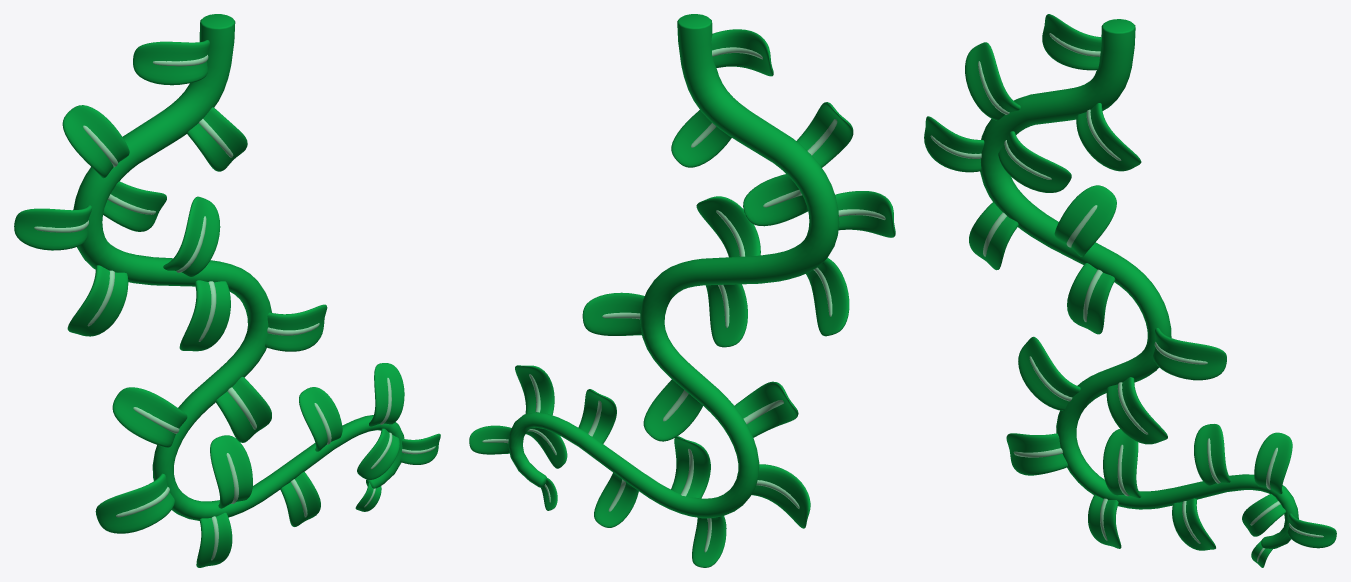
The model's file is City_14_Ivy_2.glb.
3 views of the same model, side by side, from view 1: azimuth 30°, elevation 25°; view 2: azimuth 150°, elevation 25°; view 3: azimuth 330°, elevation 25° (orthographic). The views are drawn at different scales.
Parts seen in each view (by area): view 1: City_14_Ivy_2; view 2: City_14_Ivy_2; view 3: City_14_Ivy_2.
Boxes of the visible parts, bbox=[...] form: City_14_Ivy_2: bbox=[14, 14, 440, 567]; City_14_Ivy_2: bbox=[469, 14, 895, 567]; City_14_Ivy_2: bbox=[924, 14, 1336, 567].
Size of the model in its own units: 3.87 by 4.73 by 0.3647.
1 material, 1 textured.
